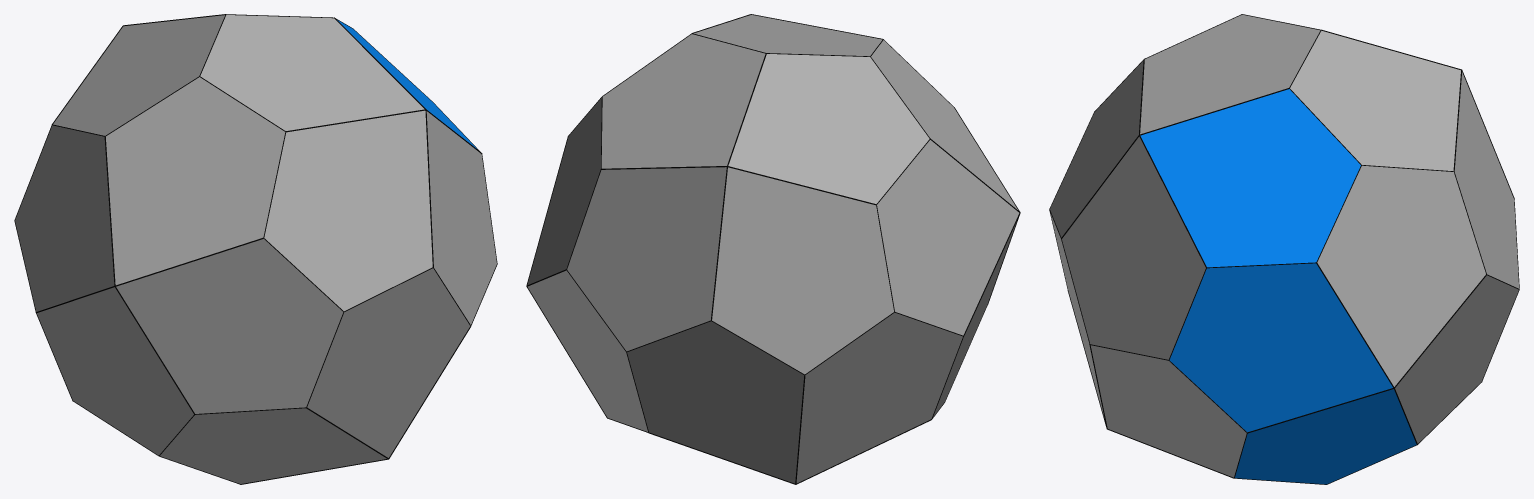
File: PentagonalIcositetrahedron6.glb
The picture shows the model from 3 angles, left to right: view 1: azimuth 30°, elevation 25°; view 2: azimuth 150°, elevation 25°; view 3: azimuth 270°, elevation 25°; orthographic projection. The views are drawn at different scales.
Size of the model in its own units: 2.47 by 2.54 by 2.52.
